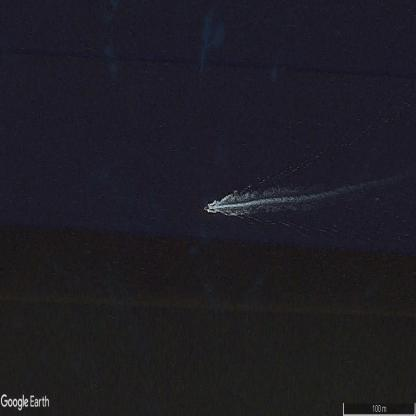ship: (204, 207, 209, 210)
